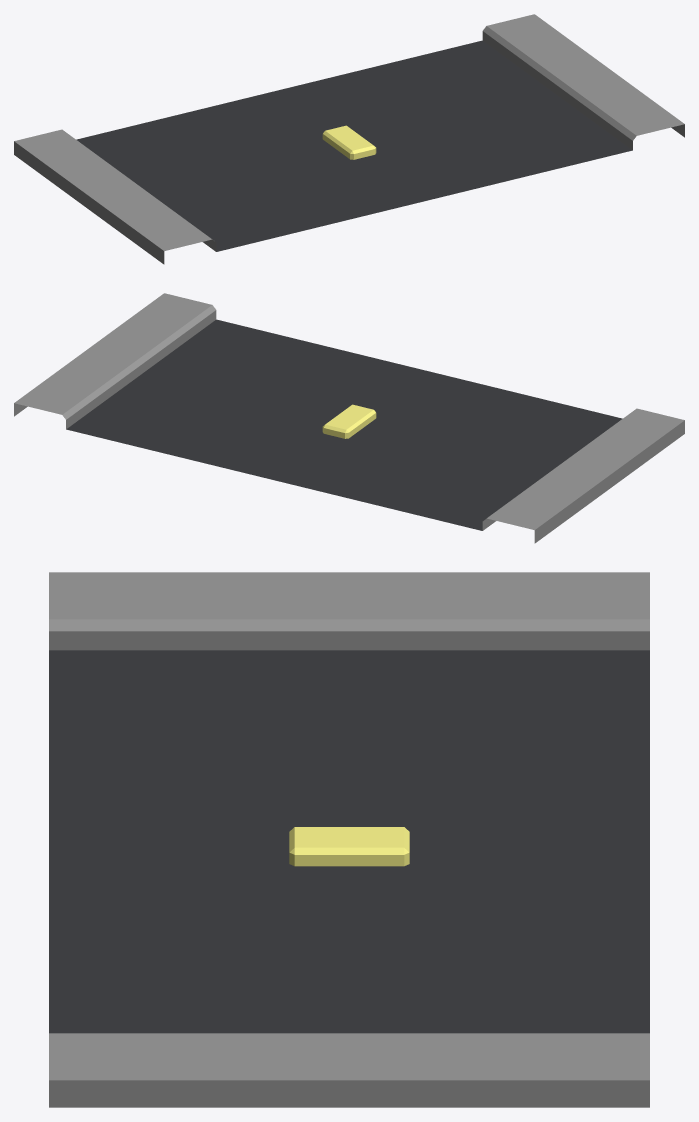
Rendered from 5x10_Road.fbx.
3 renders of one model, top to bottom at view 1: azimuth 30°, elevation 25°; view 2: azimuth 150°, elevation 25°; view 3: azimuth 270°, elevation 25°, orthographic. The views are drawn at different scales.
Parts seen in each view (by area): view 1: polySurface31; view 2: polySurface31; view 3: polySurface31.
Boxes of the visible parts, bbox=[...] form: polySurface31: bbox=[14, 14, 684, 264]; polySurface31: bbox=[14, 293, 684, 543]; polySurface31: bbox=[49, 572, 649, 1107].
Size of the model in its own units: 10 by 0.4 by 5.
